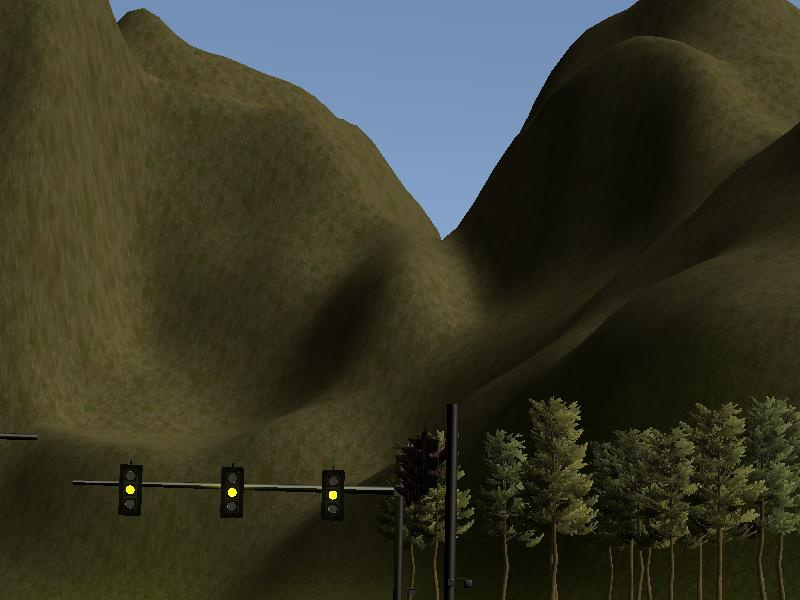Yellow: (119, 462, 144, 515), (220, 466, 245, 519), (319, 468, 344, 521)
